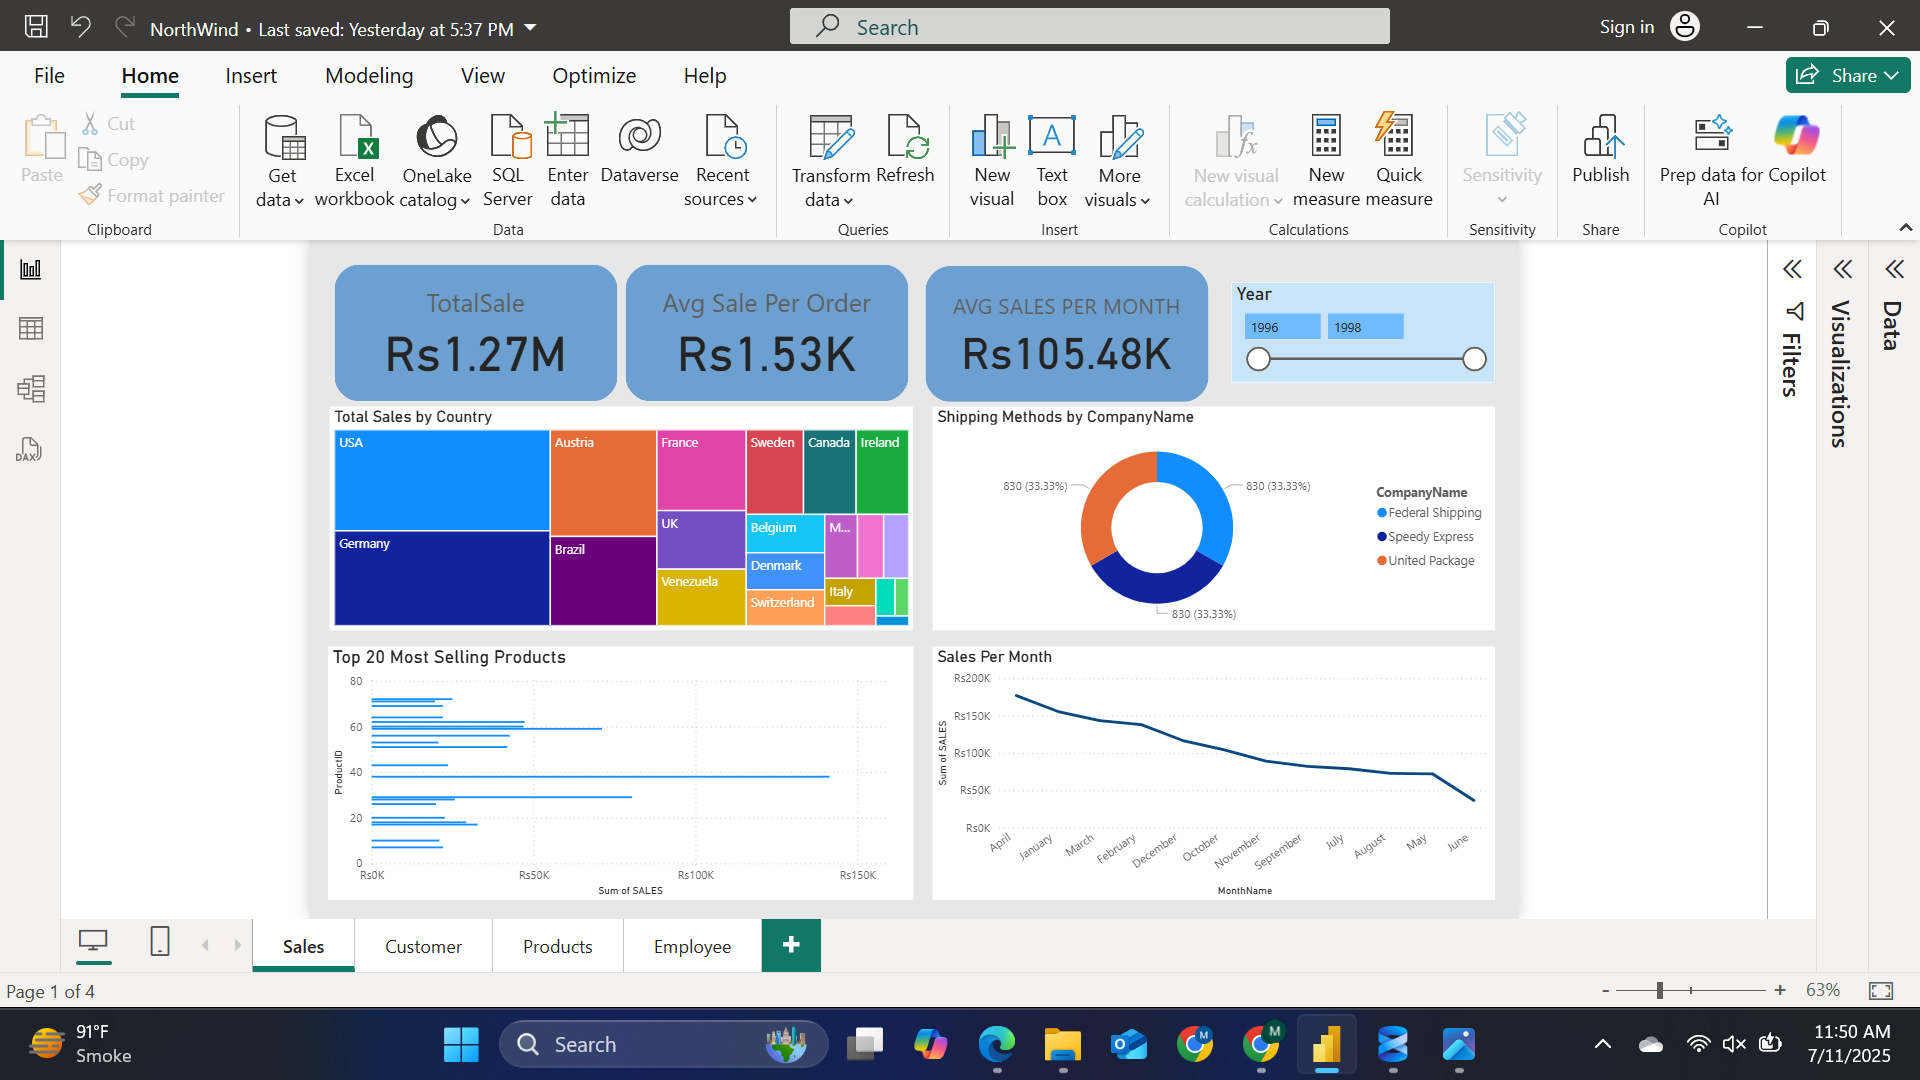

This screenshot's page, from the dashboard's own definition file:
{"tool":"powerbi","page":{"name":"Sales","canvas":[1280,720],"ordinal":0},"visuals":[{"type":"cardVisual","title":"TotalSales","fields":{"Data":["fact_orders.TotalSale"]},"box":[20.7,20.7,310.2,155.9],"z":0},{"type":"barChart","title":"Top 20 Most Selling Products","fields":{"Category":["fact_orders.ProductID"],"Y":["Sum(fact_orders.SALES)"]},"box":[19.1,431.1,620.3,268.8],"z":1000},{"type":"slicer","title":"Year","fields":{"Values":["DimDate.Year"]},"box":[976.6,44.5,279.9,106.6],"z":2000},{"type":"lineChart","title":"Sales Per Month","fields":{"Y":["Sum(fact_orders.SALES)"],"Category":["DimDate.MonthName"]},"box":[660.1,431.1,596.5,268.8],"z":3000},{"type":"cardVisual","title":"TotalSales","fields":{"Data":["fact_orders.Avg Sale Per Order"]},"box":[329.3,20.7,310.2,155.9],"z":4000},{"type":"cardVisual","title":"TotalSales","fields":{"Data":["fact_orders.AVG SALES PER MONTH"]},"box":[647.4,22.3,310.2,154.3],"z":5000},{"type":"treemap","title":"Total Sales by Country","fields":{"Group":["DimShipping.ShipCountry"],"Values":["Sum(fact_orders.SALES)"]},"box":[20.7,176.6,618.7,237],"z":6000},{"type":"donutChart","title":"Shipping Methods by CompanyName","fields":{"Category":["DimShippers.CompanyName"],"Y":["CountNonNull(DimShipping.ShipVia)"]},"box":[660.1,176.6,596.5,237],"z":7000}]}

Visuals, with their boxes on the page's 1280x720 design canvas (x1, y1, x2, y2). These are canvas units, not pixel positions in the 1920x1080 screenshot, which may show the page scaled, cropped or inside an application window:
"TotalSales" cardVisual: (21, 21, 331, 177)
"Top 20 Most Selling Products" barChart: (19, 431, 639, 700)
"Year" slicer: (977, 44, 1256, 151)
"Sales Per Month" lineChart: (660, 431, 1257, 700)
"TotalSales" cardVisual: (329, 21, 640, 177)
"TotalSales" cardVisual: (647, 22, 958, 177)
"Total Sales by Country" treemap: (21, 177, 639, 414)
"Shipping Methods by CompanyName" donutChart: (660, 177, 1257, 414)
